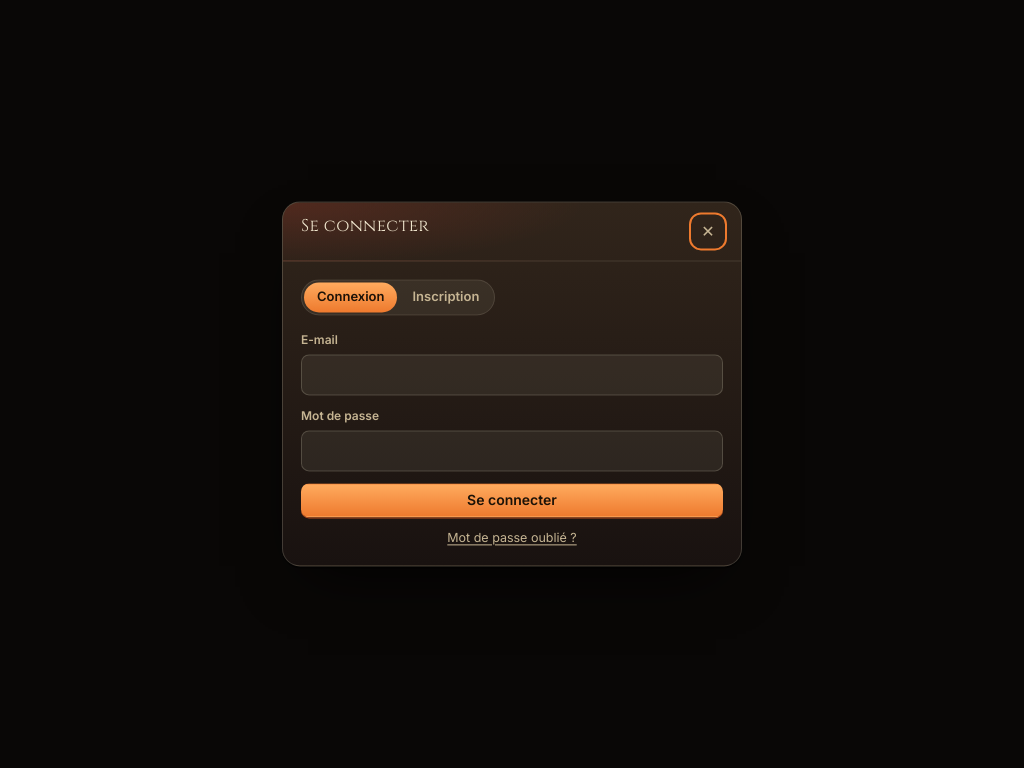
AuthDialog › bascule en inscription et demande un pseudo
Click the radio button labelled "Inscription": coordinates (446, 297) top-left (400, 282), bottom-right (492, 312)
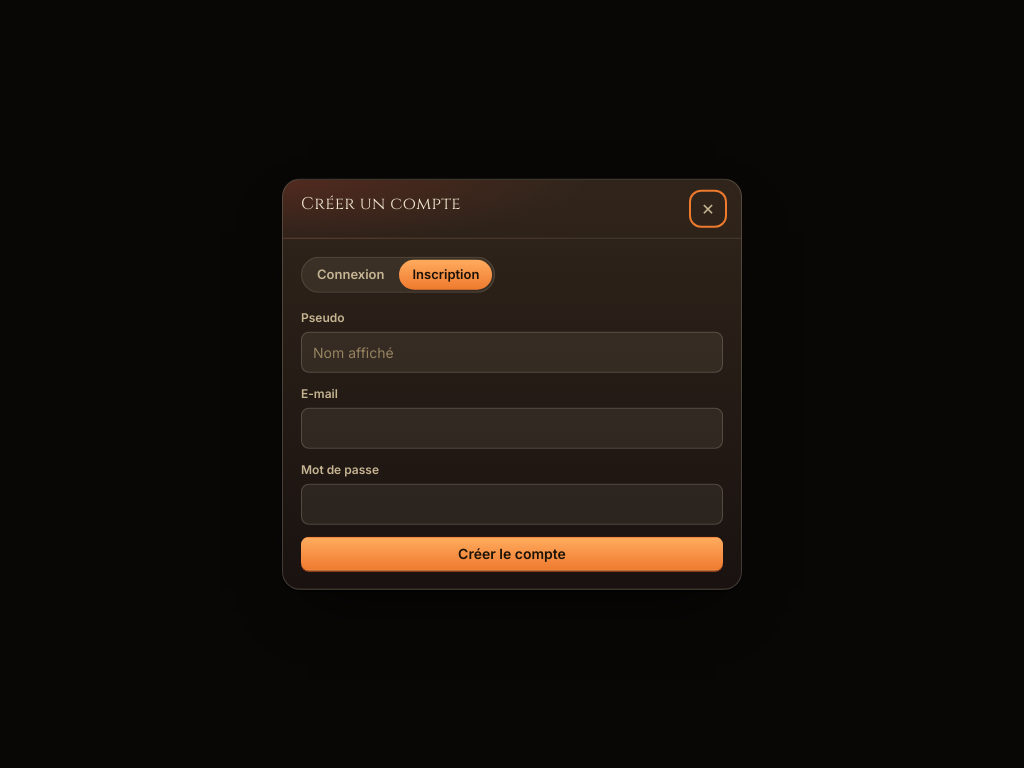
Check: the field labelled "Pseudo" is shown, box top-left (301, 331), bottom-right (723, 372)
